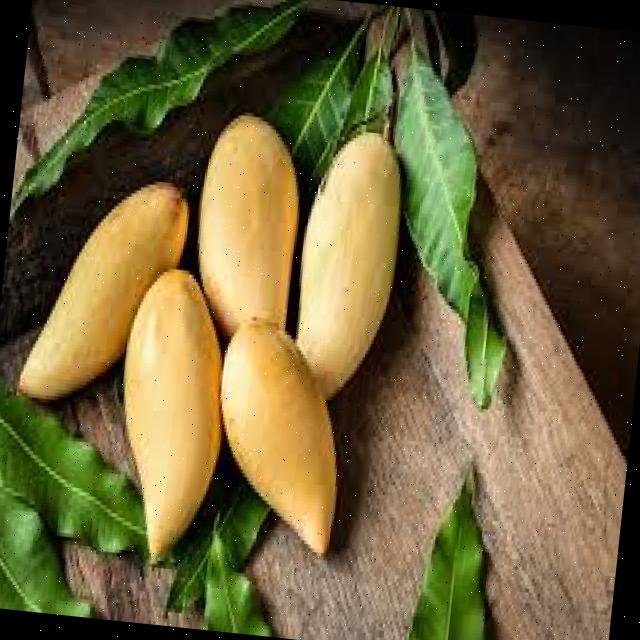mango: (223, 319, 340, 556)
